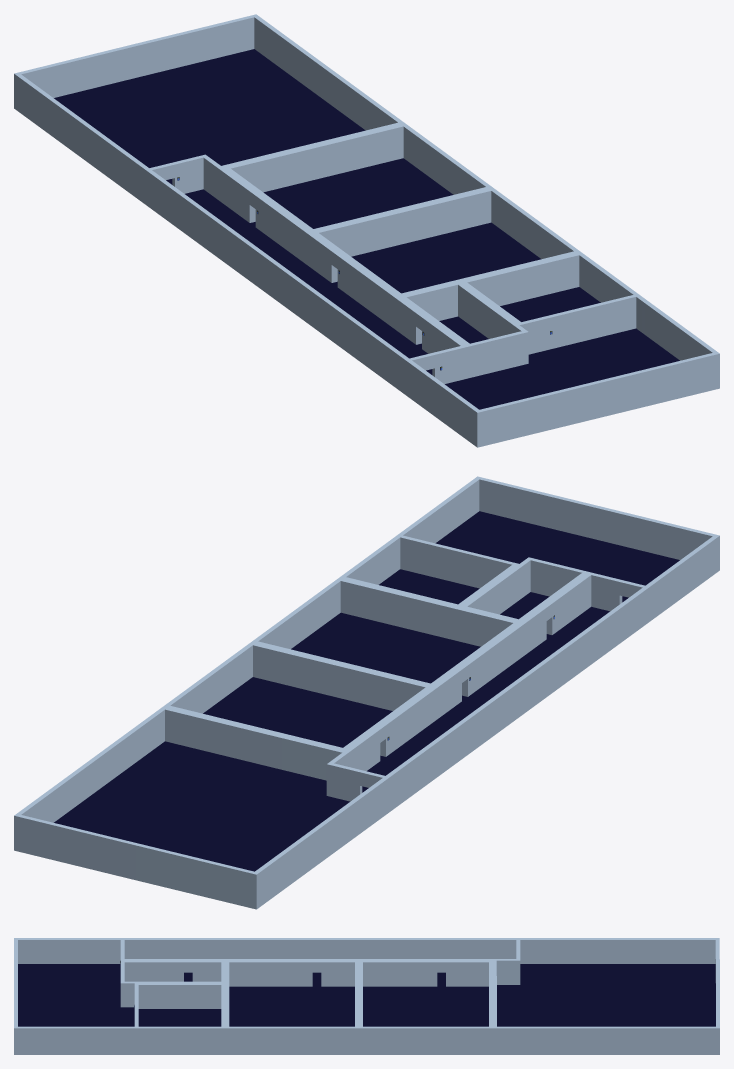
Rendered from piso.glb.
The picture shows the model from 3 angles, top to bottom: view 1: azimuth 30°, elevation 25°; view 2: azimuth 150°, elevation 25°; view 3: azimuth 270°, elevation 25°; orthographic projection. The views are drawn at different scales.
Visible parts, largest first — view 1: Piso; view 2: Piso; view 3: Piso.
Part boxes in pixels (bbox=[...]): Piso: bbox=[14, 14, 719, 447]; Piso: bbox=[14, 476, 719, 909]; Piso: bbox=[14, 938, 719, 1054].
Bounding box in the file's own units: 16 × 2.2 × 52.99.
